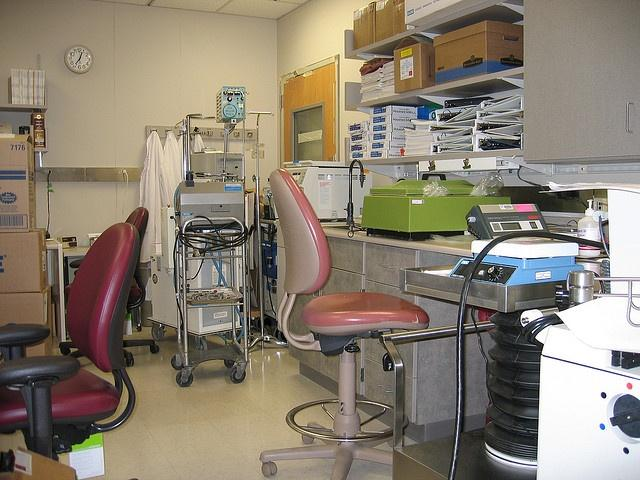Kursi: (256, 167, 429, 479), (0, 222, 140, 460)
